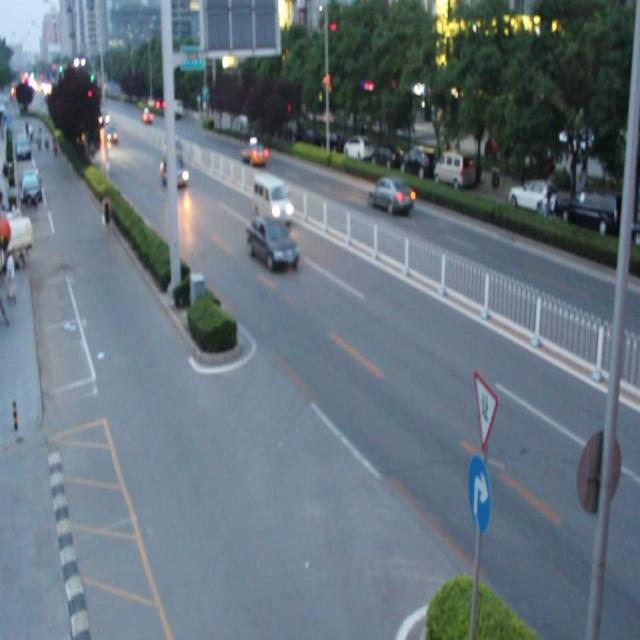car: (248, 213, 296, 273), (366, 174, 412, 212), (160, 154, 185, 189), (240, 137, 268, 165)
truck: (253, 176, 292, 226), (165, 134, 184, 162)
